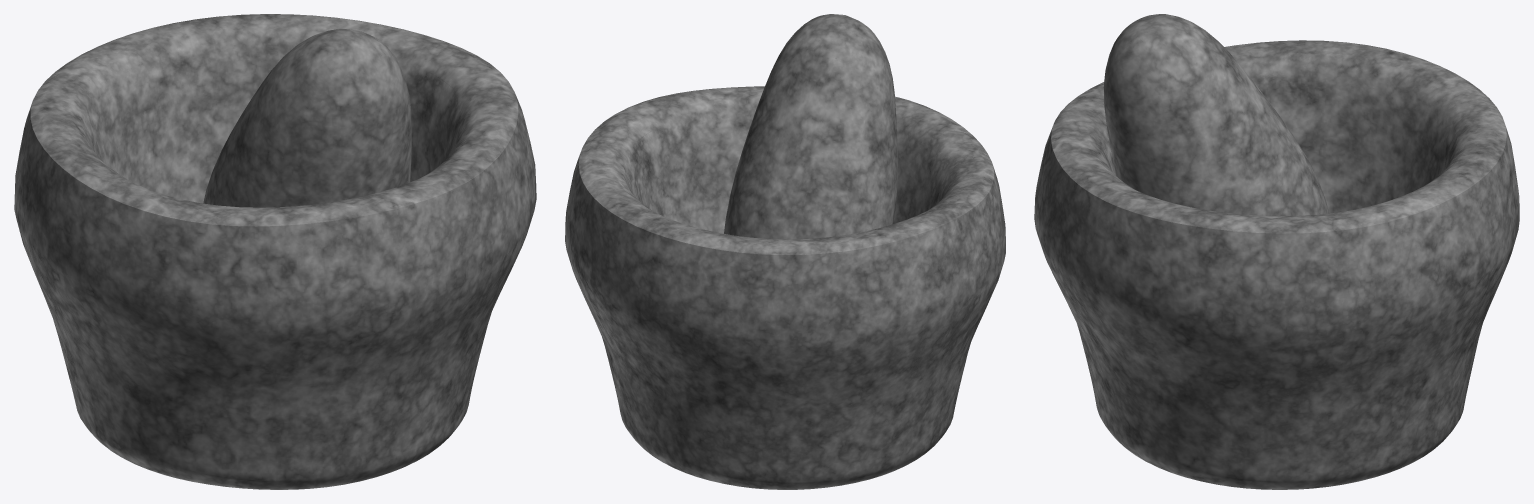
The model's file is MortalPestle.fbx.
The picture shows the model from 3 angles, left to right: view 1: azimuth 30°, elevation 25°; view 2: azimuth 150°, elevation 25°; view 3: azimuth 270°, elevation 25°; orthographic projection. The views are drawn at different scales.
Visible parts, largest first — view 1: Mortar and Pestle.001; view 2: Mortar and Pestle.001; view 3: Mortar and Pestle.001.
Part boxes in pixels (<box>): Mortar and Pestle.001: <box>14,14,536,489</box>; Mortar and Pestle.001: <box>565,14,1005,489</box>; Mortar and Pestle.001: <box>1034,14,1519,489</box>.
Size of the model in its own units: 38.23 by 34.73 by 37.48.
Materials: 1 (1 with a texture image).
